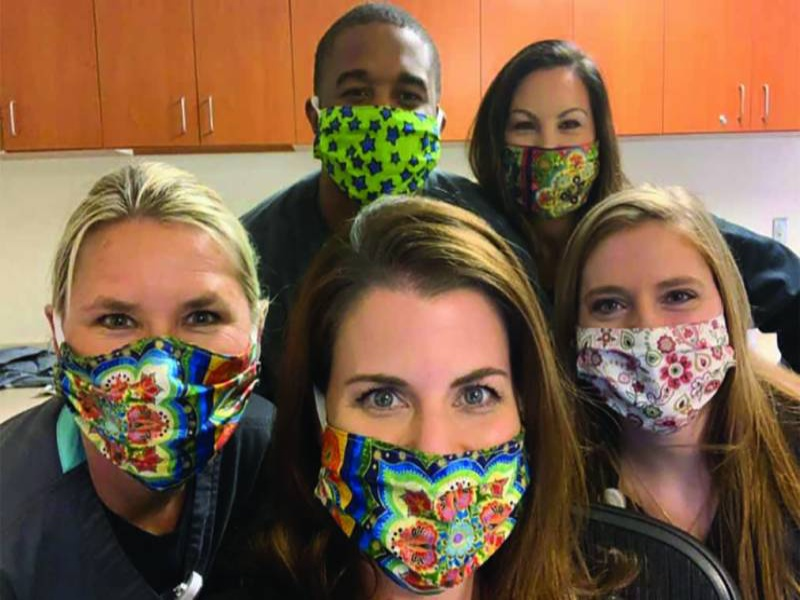ManaoArotava: (308, 238, 542, 598), (42, 175, 266, 510), (558, 198, 738, 439), (300, 8, 466, 211), (483, 42, 621, 223)
